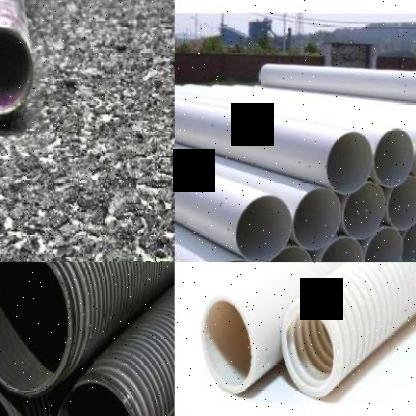pipe: (0, 262, 69, 393), (281, 297, 340, 398), (200, 295, 254, 396), (236, 195, 291, 262), (53, 380, 139, 416), (326, 131, 374, 195), (291, 189, 341, 250), (0, 23, 33, 115), (343, 182, 385, 240), (374, 128, 413, 187), (387, 176, 416, 231), (363, 227, 402, 262), (318, 236, 363, 262), (262, 246, 313, 262), (400, 218, 416, 262)
